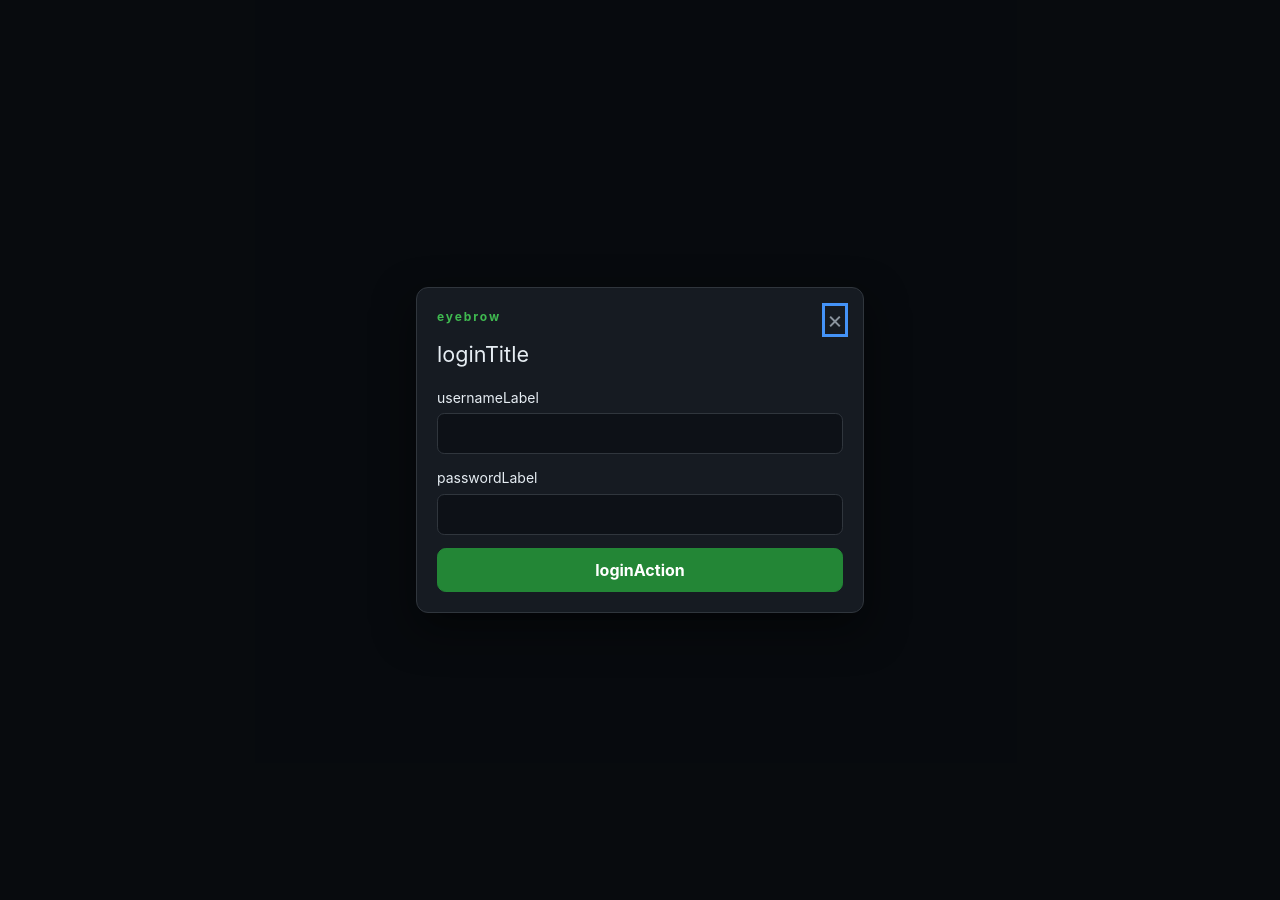
Test: account-modal credentials › shows the fallback for login failures without a problem detail
Type "warsaw" into the field labelled "usernameLabel" at (640, 434), box [437,413,843,454]
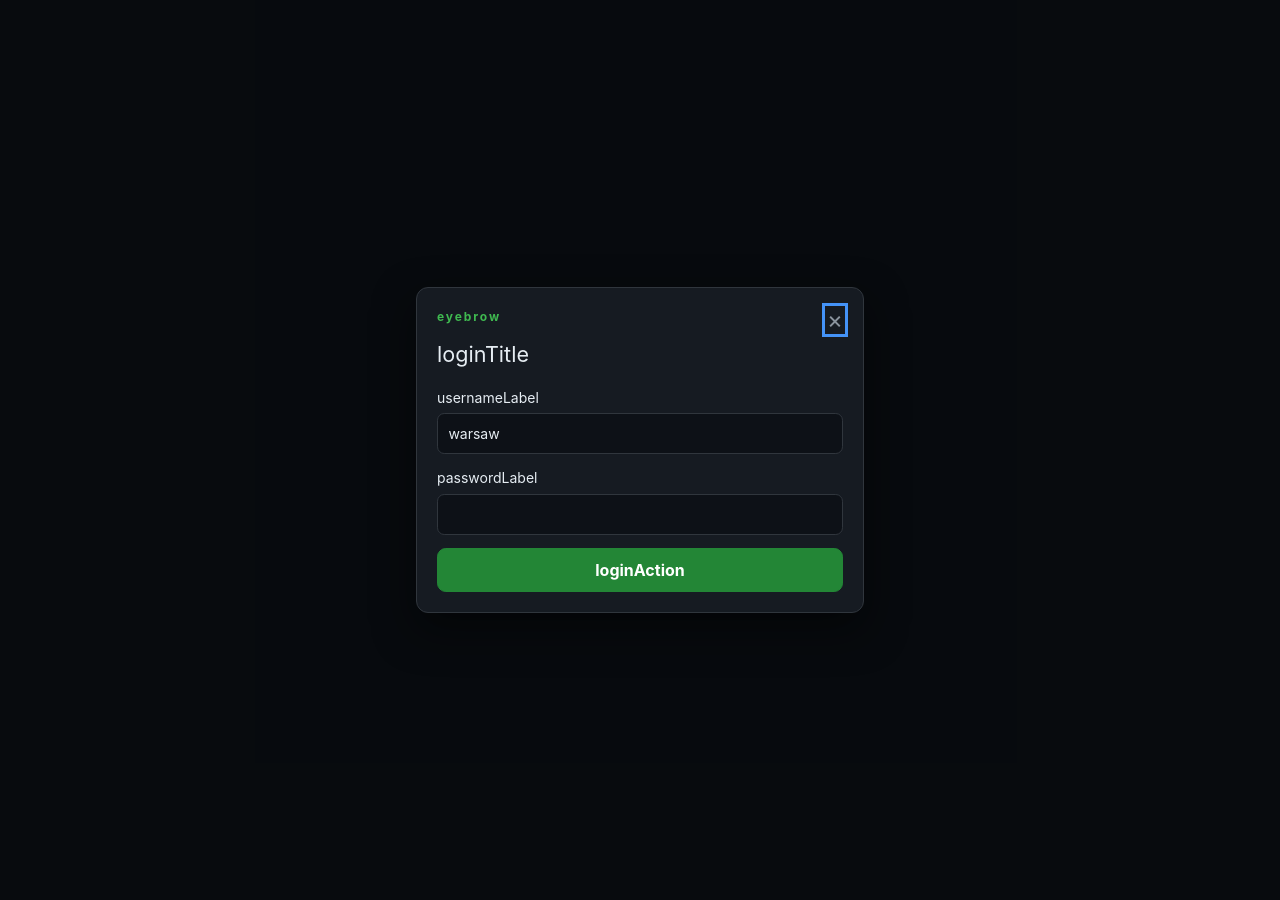
Type "longenough123" into the password field labelled "passwordLabel" at (640, 514), box [437,494,843,535]
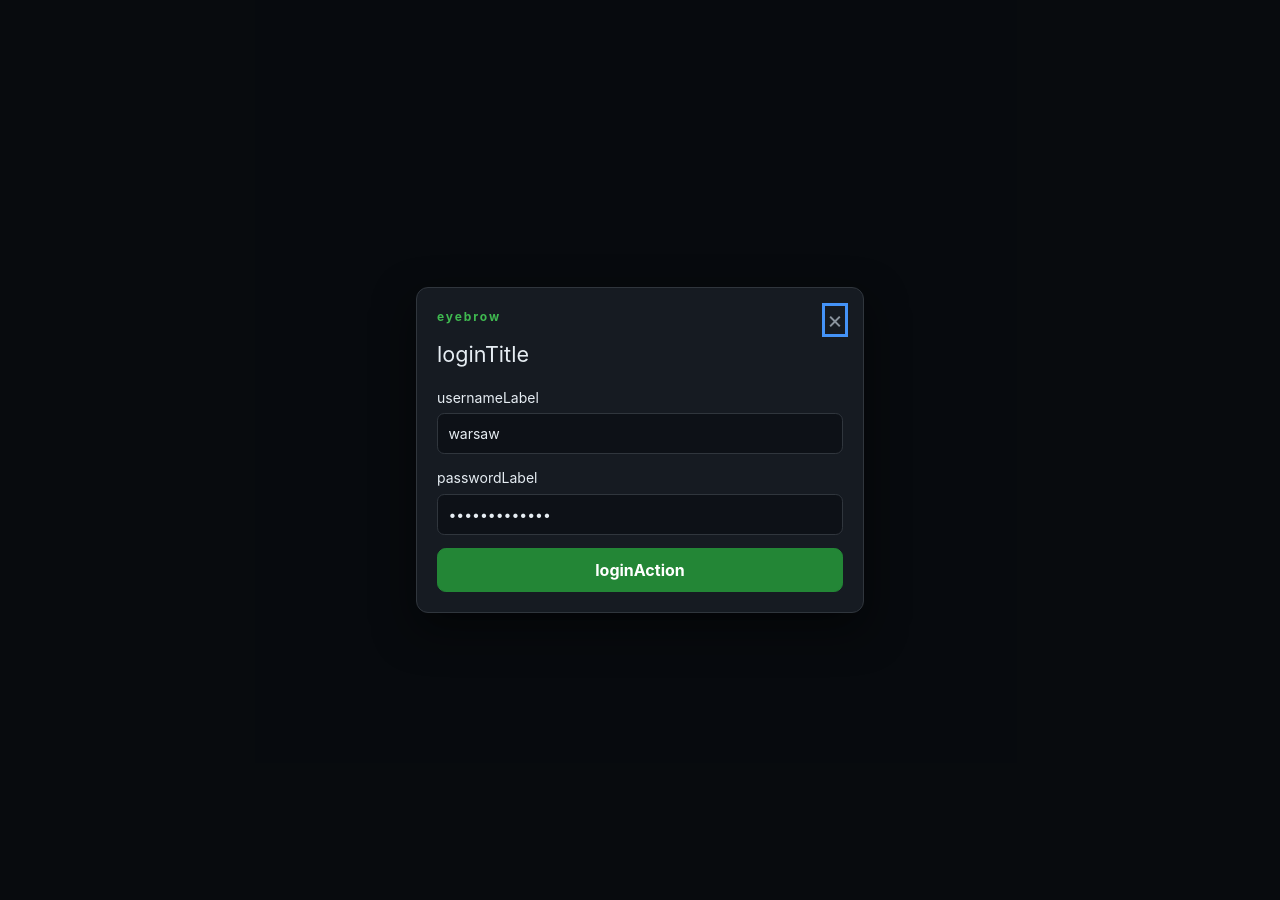
Click the button "loginAction" at (640, 570), box [437,548,843,592]
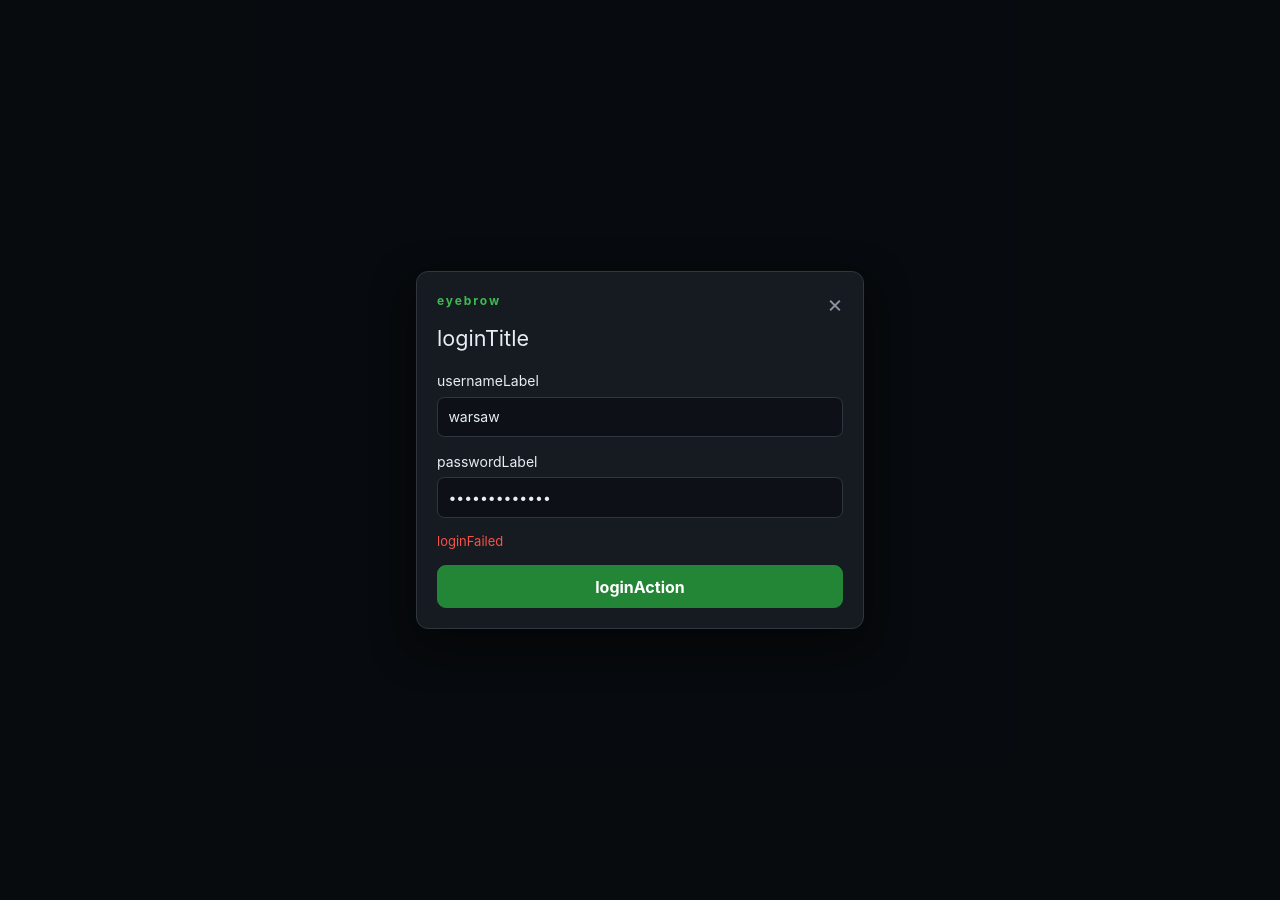
expect the message reads "loginFailed": met, box [437,533,503,549]
